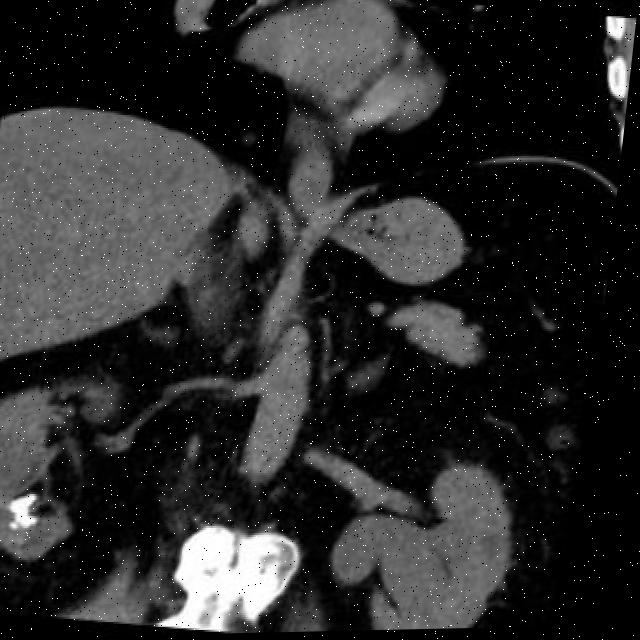Tas_Var: (17, 488, 59, 531), (18, 520, 31, 532)
